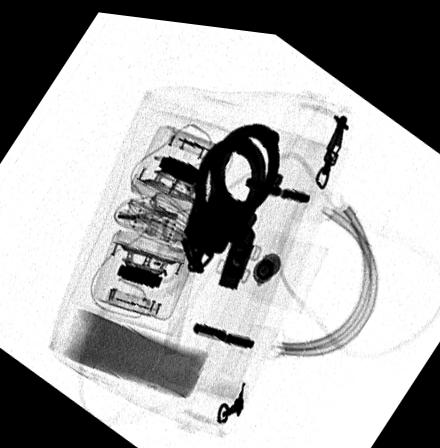HandCuffs: (178, 116, 280, 284)
